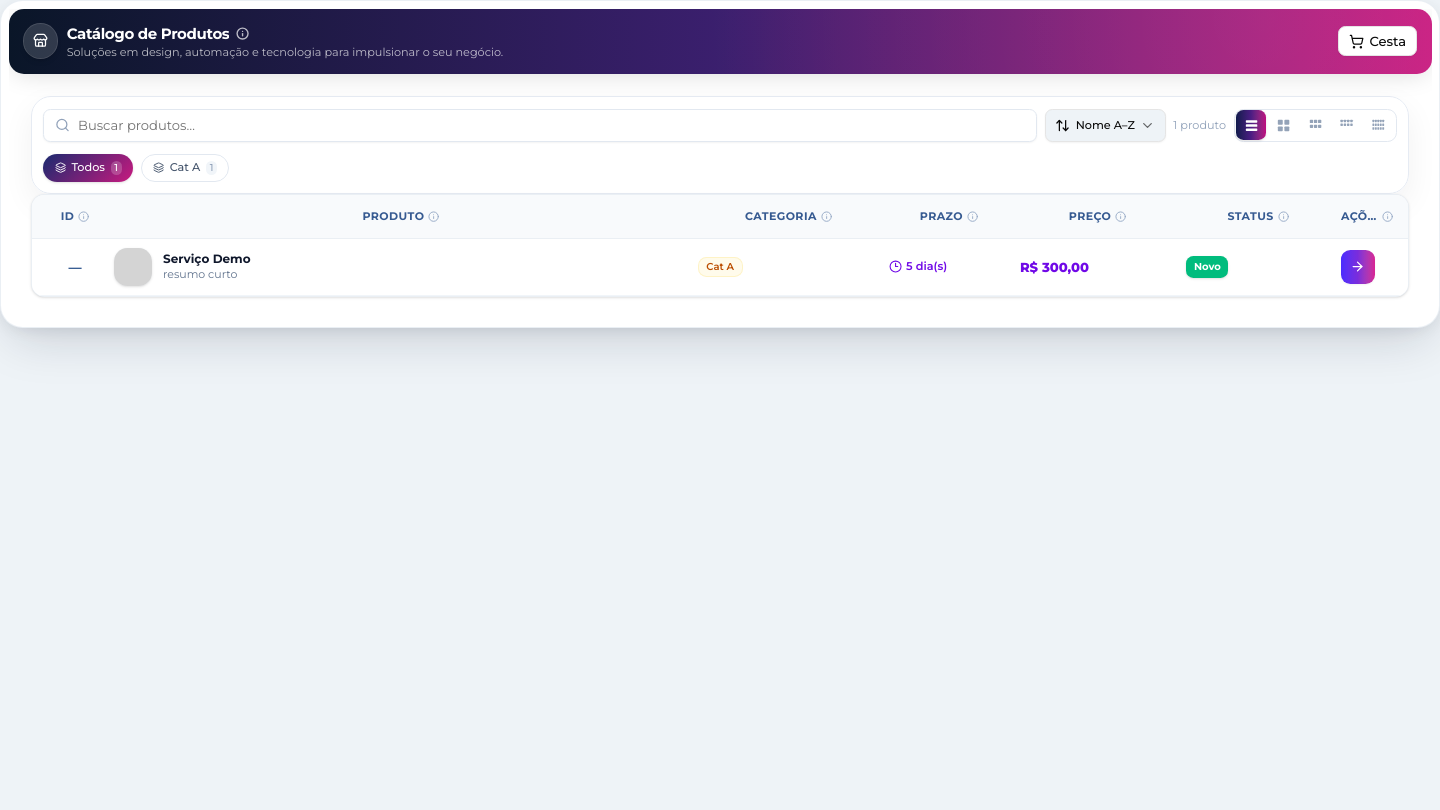
Test: Catálogo do cliente › abrir o produto NÃO adiciona à cesta; configurador recalcula no backend
Click the text "Serviço Demo" at x=207, y=259, box left=163, top=251, right=251, bottom=266
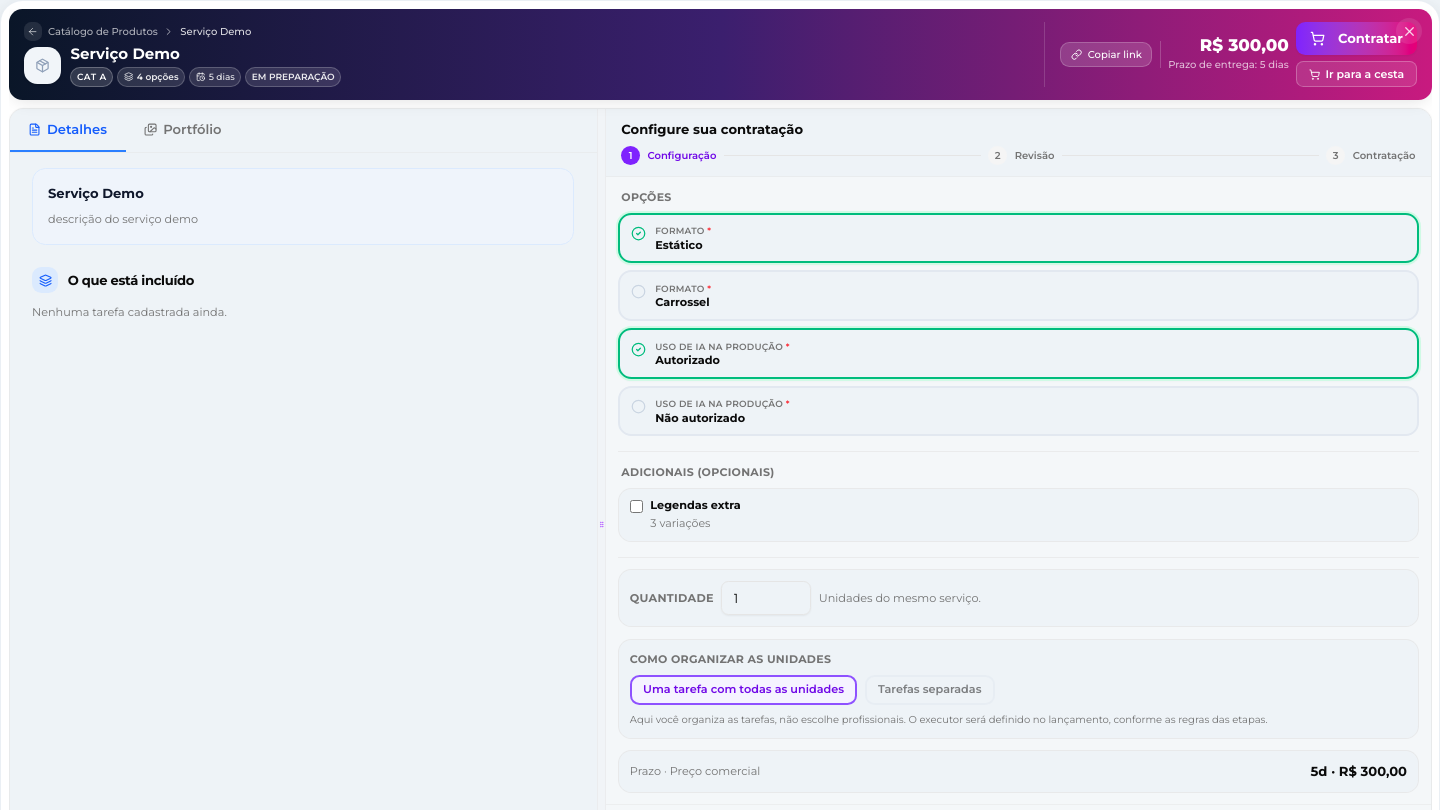
Expected: the text "R$ 300,00" in the row of "Catálogo de Produtos" is shown, left=1200, top=35, right=1289, bottom=55
Expected: the heading "Serviço Demo" is shown, left=70, top=44, right=180, bottom=63
Expected: the text "Prazo · Preço comercial" is shown, left=630, top=764, right=760, bottom=779
